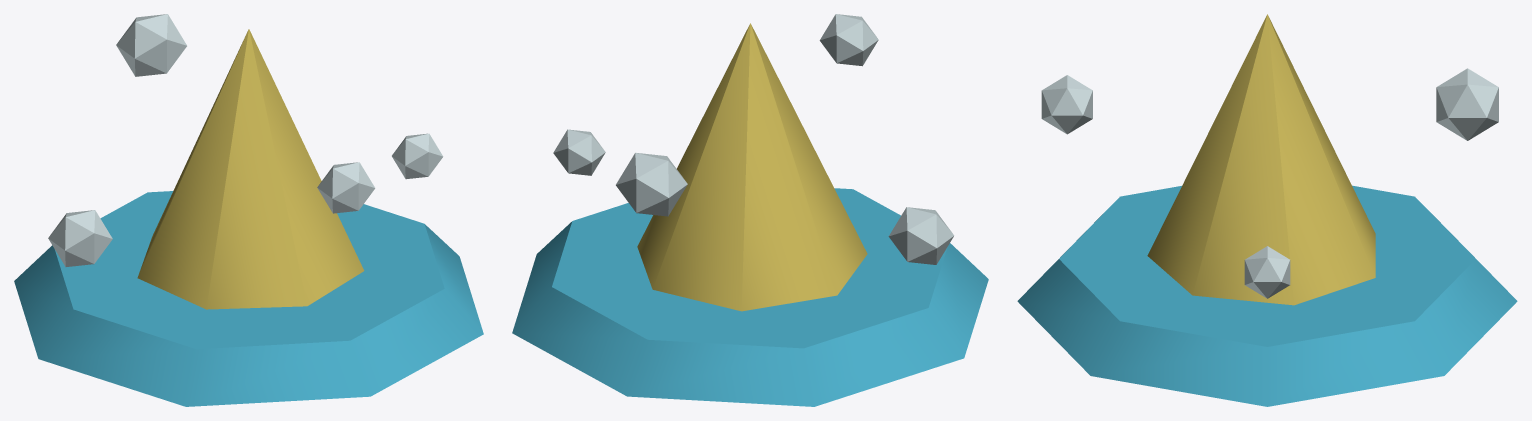
File: rune.glb
3 renders of one model, left to right at view 1: azimuth 30°, elevation 25°; view 2: azimuth 150°, elevation 25°; view 3: azimuth 270°, elevation 25°, orthographic. The views are drawn at different scales.
Parts seen in each view (by area): view 1: rune_base, rune_focus, rune_pulse_3, rune_pulse_2, rune_pulse_1, rune_pulse_0; view 2: rune_base, rune_focus, rune_pulse_3, rune_pulse_2, rune_pulse_1, rune_pulse_0; view 3: rune_base, rune_focus, rune_pulse_3, rune_pulse_1, rune_pulse_0.
Part boxes in pixels (x1,y1,x2,y2): rune_base: [14, 191, 483, 406]; rune_focus: [137, 29, 364, 309]; rune_pulse_3: [116, 14, 186, 76]; rune_pulse_2: [48, 210, 112, 266]; rune_pulse_1: [317, 162, 375, 213]; rune_pulse_0: [392, 133, 443, 179]; rune_base: [512, 188, 988, 406]; rune_focus: [637, 23, 867, 311]; rune_pulse_3: [616, 152, 687, 216]; rune_pulse_2: [888, 207, 954, 264]; rune_pulse_1: [819, 14, 878, 66]; rune_pulse_0: [553, 129, 605, 175]; rune_base: [1017, 185, 1517, 406]; rune_focus: [1147, 14, 1375, 305]; rune_pulse_3: [1436, 68, 1498, 140]; rune_pulse_1: [1041, 75, 1092, 134]; rune_pulse_0: [1244, 246, 1290, 298].
Size of what is drawn, in the model's own units: 3 by 1.9 by 3.
